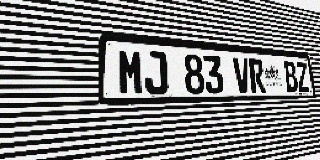3: (203, 55, 224, 94)
8: (183, 53, 205, 94)
B: (283, 61, 299, 92)
J: (144, 51, 169, 95)
M: (117, 49, 144, 95)
R: (248, 58, 266, 93)
V: (232, 57, 251, 93)
Z: (295, 62, 310, 92)
